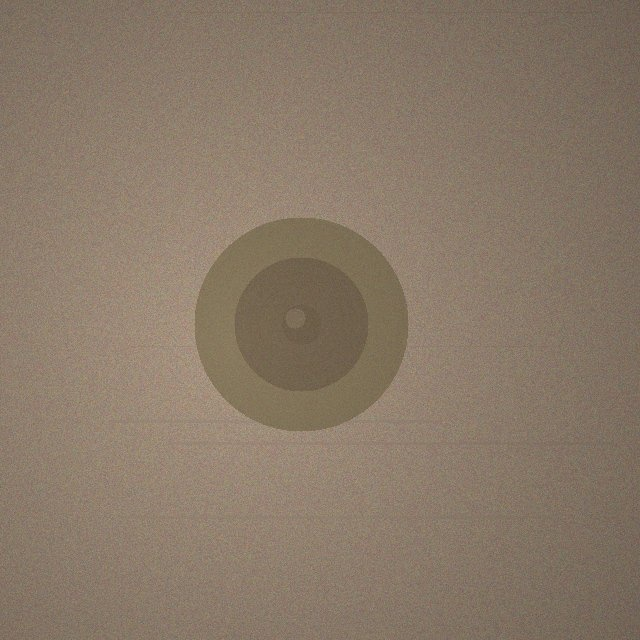good: (194, 217, 408, 431)
